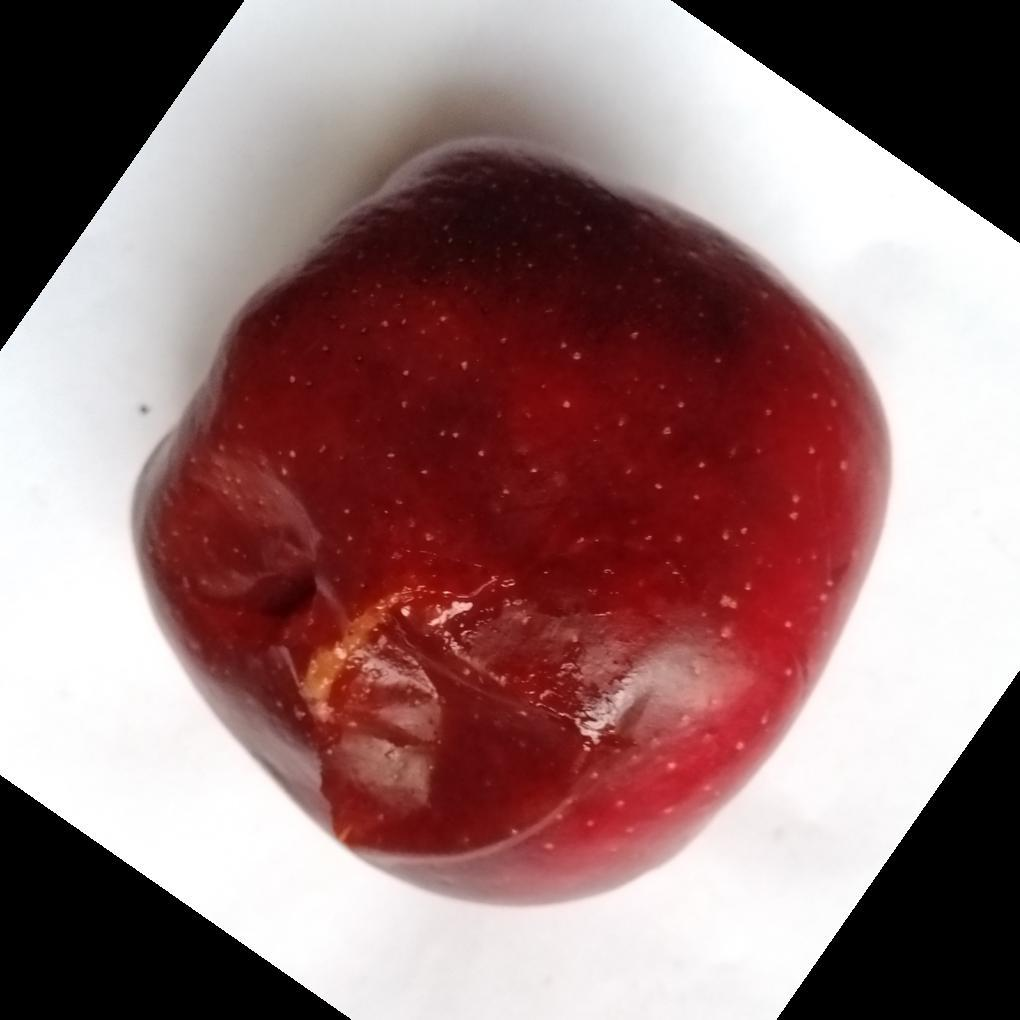FreshOrange: (126, 135, 896, 912)
